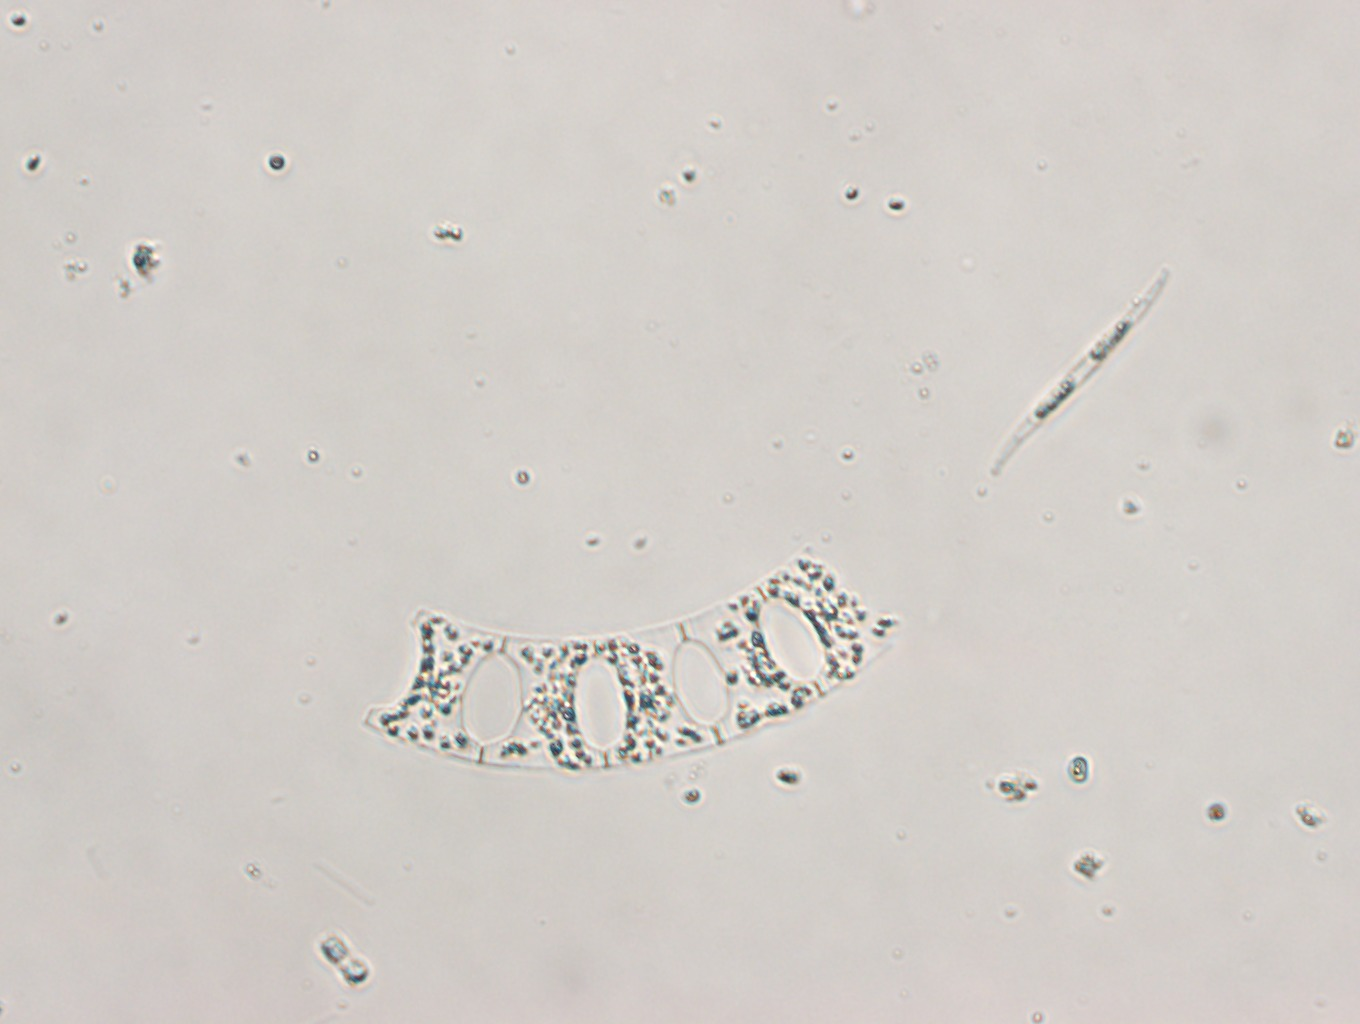eucampia: (359, 551, 907, 774)
pleurosigma pelagicum: (986, 264, 1174, 483)
